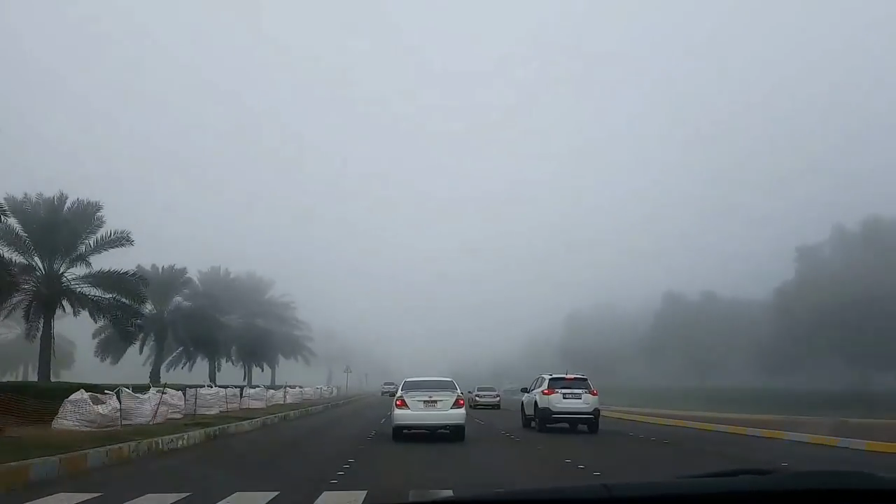car: (519, 368, 602, 434), (390, 376, 468, 441), (466, 385, 501, 409), (380, 380, 399, 397)
